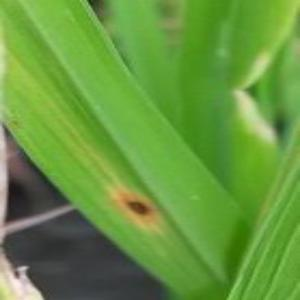Brown_Spot: (114, 192, 160, 221)
